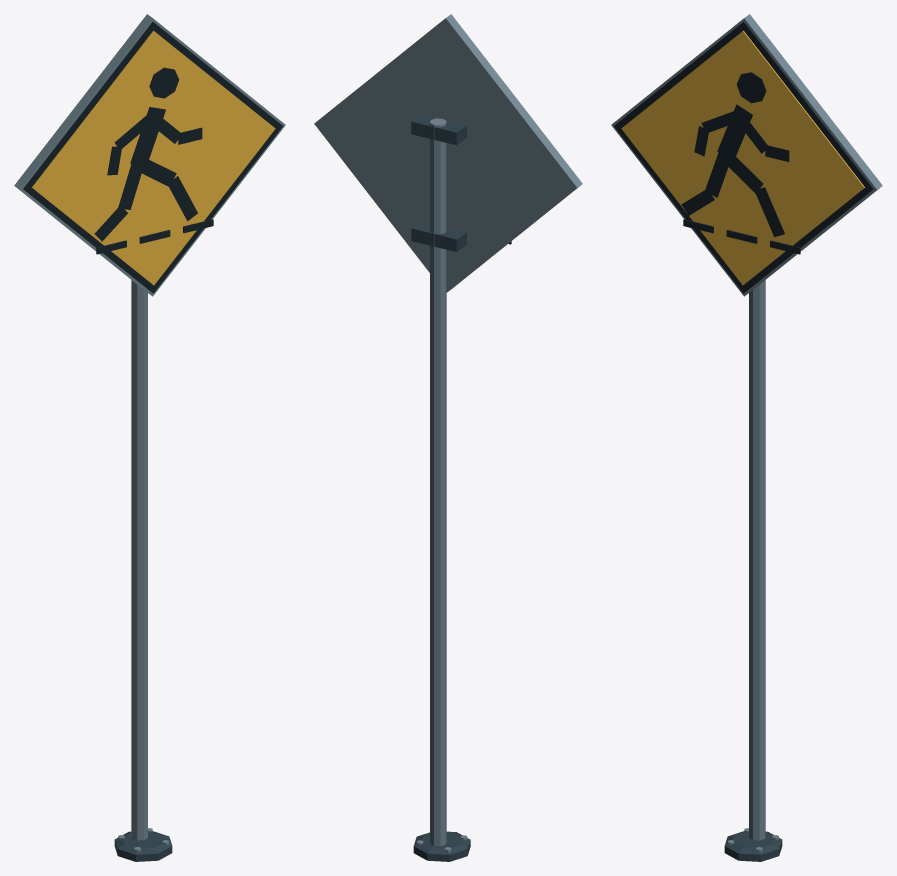
Rendered from sign_pedestrian_crossing.glb.
The picture shows the model from 3 angles, left to right: view 1: azimuth 30°, elevation 25°; view 2: azimuth 150°, elevation 25°; view 3: azimuth 330°, elevation 25°; orthographic projection.
Parts seen in each view (by area): view 1: sign_pedestrian_crossing; view 2: sign_pedestrian_crossing; view 3: sign_pedestrian_crossing.
Part boxes in pixels (x1,y1,x2,y2): sign_pedestrian_crossing: [14, 14, 285, 861]; sign_pedestrian_crossing: [314, 14, 582, 861]; sign_pedestrian_crossing: [611, 14, 882, 861].
Bounding box in the file's own units: 0.98 × 2.95 × 0.19.
